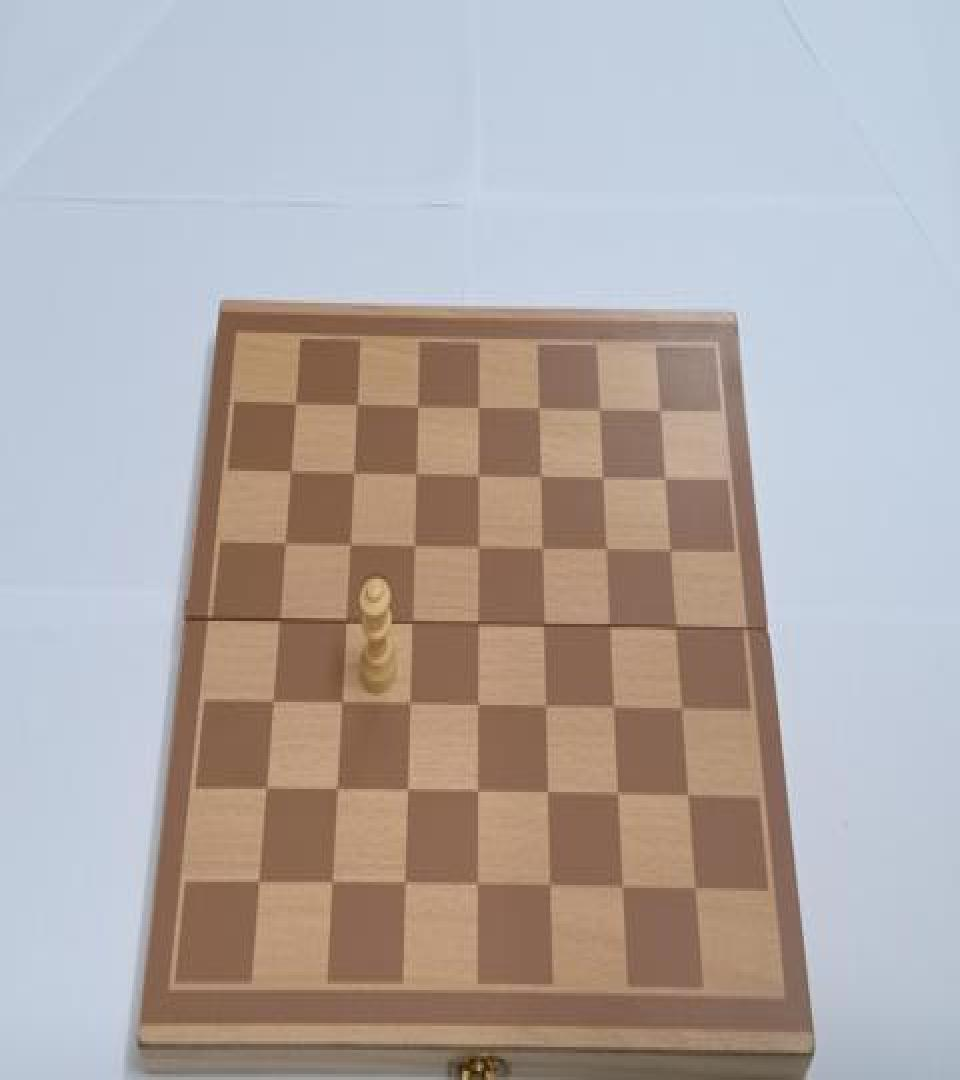xcorner: (281, 460, 299, 488), (343, 460, 361, 488), (407, 394, 425, 422), (535, 694, 553, 722), (653, 466, 671, 494), (276, 531, 294, 558), (263, 690, 281, 717), (249, 868, 267, 895), (347, 393, 365, 420), (339, 532, 357, 559), (335, 609, 353, 636), (326, 777, 344, 804), (321, 870, 339, 897), (405, 462, 423, 489), (403, 534, 421, 561), (401, 610, 419, 637), (396, 778, 414, 805), (467, 396, 485, 423), (467, 612, 485, 639), (467, 693, 485, 720), (467, 780, 485, 807), (467, 873, 485, 900), (527, 396, 545, 423), (529, 465, 547, 492), (531, 537, 549, 564), (539, 874, 557, 901), (588, 397, 606, 424), (591, 465, 609, 492), (595, 537, 613, 564), (599, 615, 617, 642), (603, 696, 621, 723), (607, 783, 625, 810), (612, 876, 630, 903), (648, 399, 666, 426), (659, 538, 677, 565), (665, 615, 683, 642), (678, 785, 696, 812), (287, 392, 305, 418), (269, 608, 287, 634), (256, 776, 274, 802), (331, 692, 349, 718), (399, 692, 417, 718), (394, 872, 412, 898), (467, 464, 485, 490), (467, 536, 485, 562), (533, 614, 551, 640), (537, 782, 555, 808), (671, 698, 689, 724), (685, 878, 703, 904)
